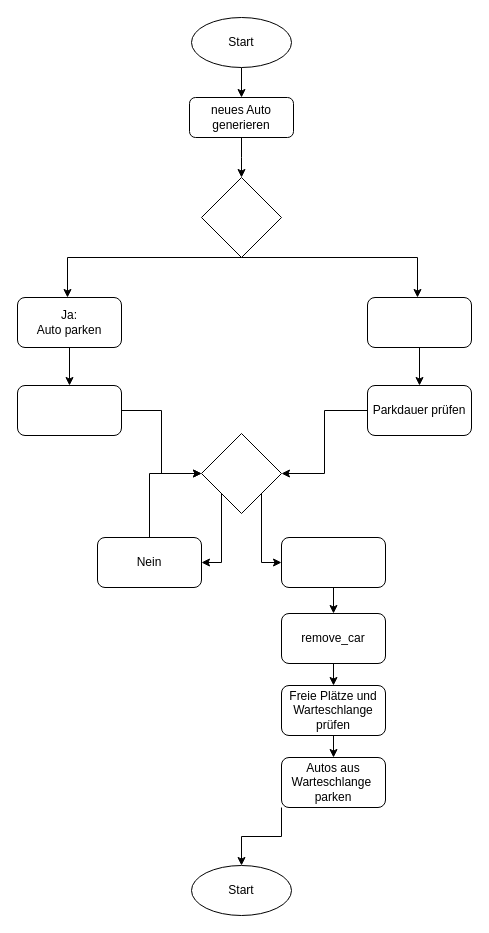
The diagram is 489 pixels wide and 933 high, and some of its shapes have lost their labels. Each missing label, with the box of its shape:
Abfrage: freier Stellplatz?: (200, 176, 282, 258)
Ja: (280, 536, 386, 588)
Nein: Auto in Warteschlange setzen: (366, 296, 472, 348)
Parkdauer Abgelaufen?: (200, 432, 282, 514)
Parkdauer setzen: (16, 384, 122, 436)
